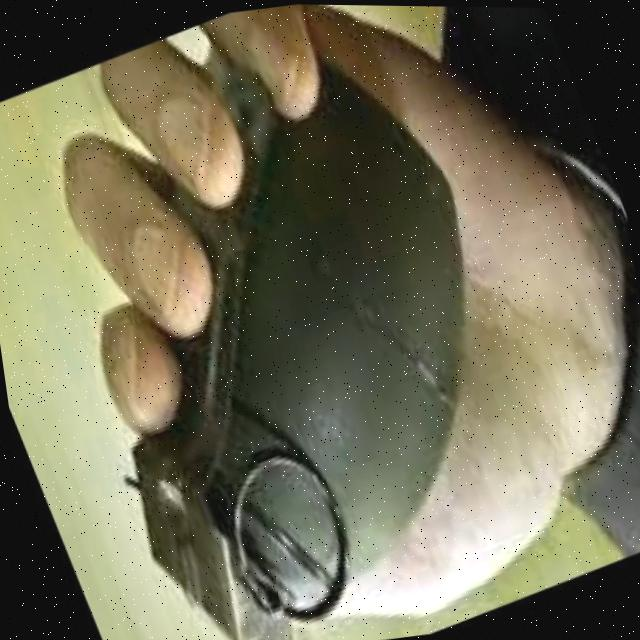grenade: (0, 0, 604, 640)
